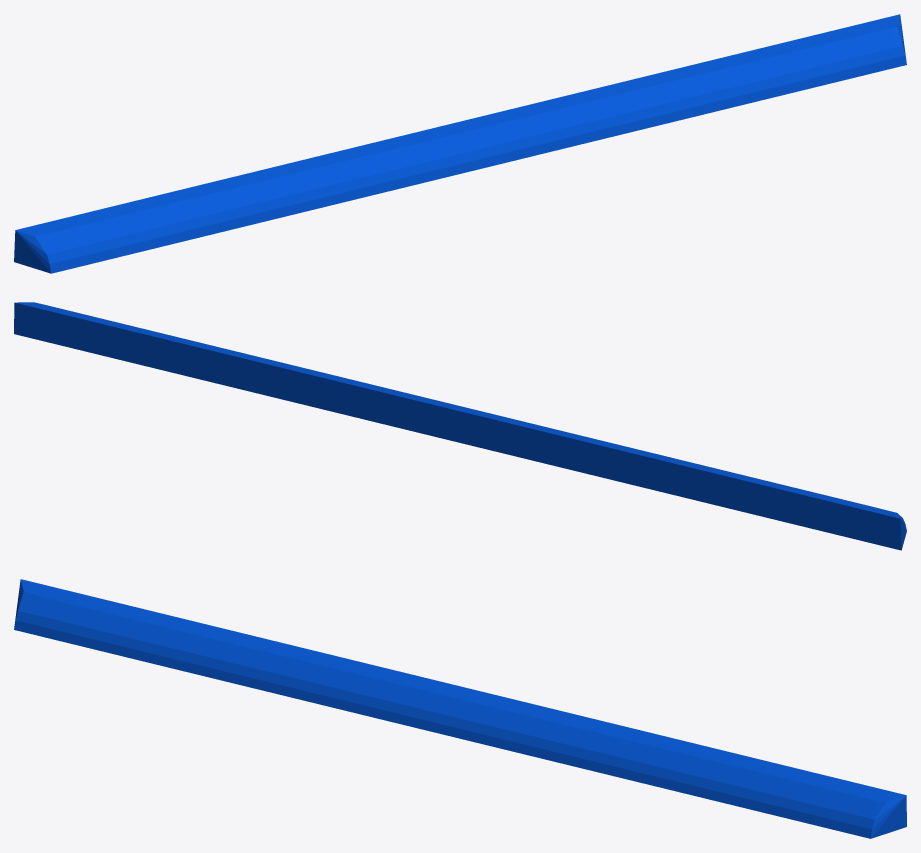
3 renders of one model, top to bottom at view 1: azimuth 30°, elevation 25°; view 2: azimuth 150°, elevation 25°; view 3: azimuth 330°, elevation 25°, orthographic.
Bounding box in the file's own units: 11.27 × 0.384 × 0.4694.
